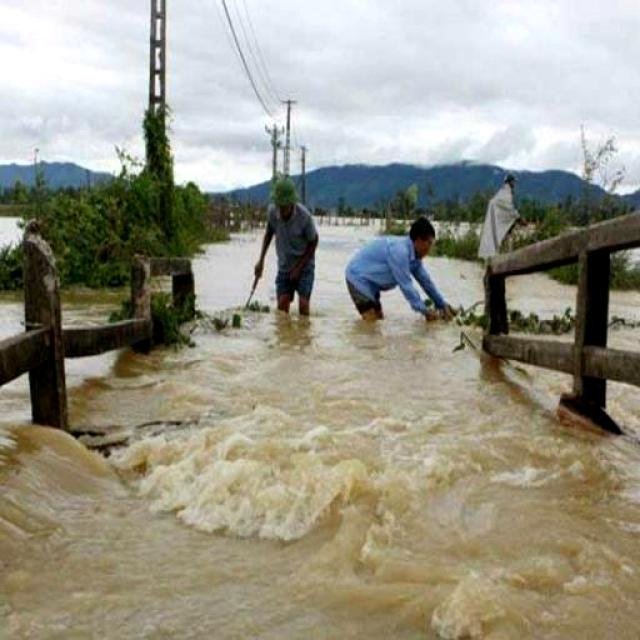civilian: (342, 216, 448, 338), (253, 178, 329, 332)
